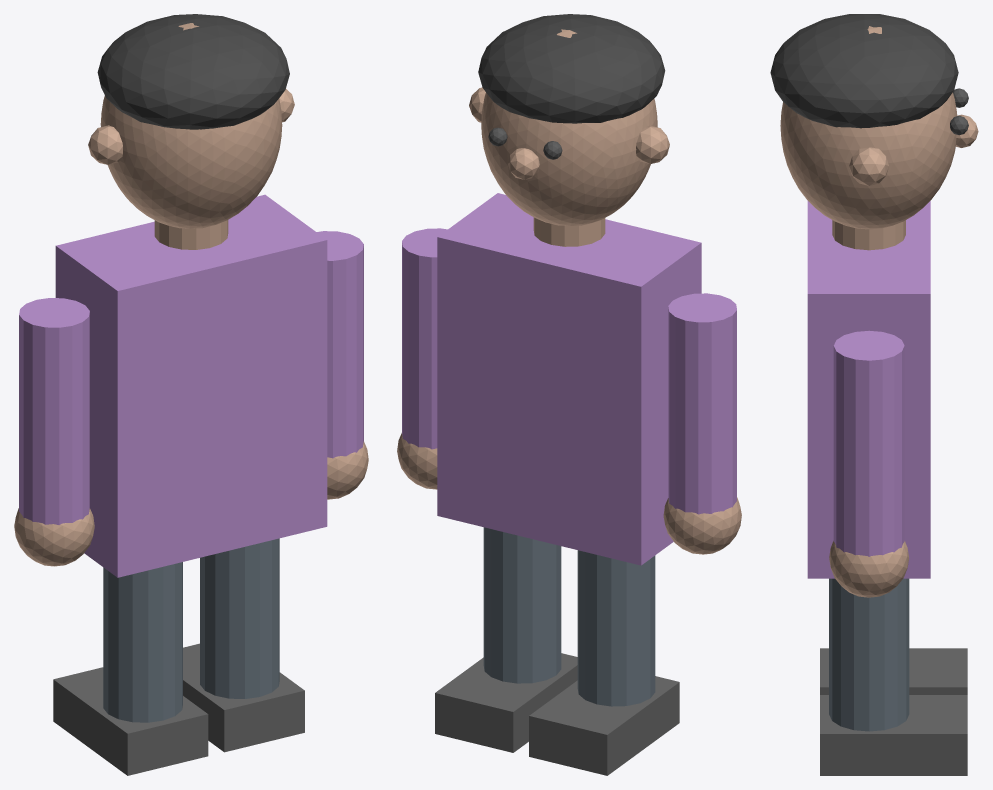
File: student_purple.glb
The picture shows the model from 3 angles, left to right: view 1: azimuth 30°, elevation 25°; view 2: azimuth 150°, elevation 25°; view 3: azimuth 270°, elevation 25°; orthographic projection. The views are drawn at different scales.
Visible parts, largest first — view 1: torso, hair, armL, head, legL, legR, shoeL, armR, shoeR, handL, handR, neck (+1 smaller); view 2: torso, hair, armL, head, legL, legR, shoeL, armR, shoeR, handL, handR, neck (+2 smaller); view 3: torso, hair, armR, head, legR, shoeR, shoeL, handR, neck, earR, nose.
Boxes of the visible parts, bbox=[...] form: torso: bbox=[55, 194, 327, 577]; hair: bbox=[97, 14, 289, 129]; armL: bbox=[19, 298, 89, 524]; head: bbox=[100, 23, 282, 228]; legL: bbox=[103, 562, 182, 722]; legR: bbox=[200, 538, 279, 698]; shoeL: bbox=[53, 667, 208, 775]; armR: bbox=[317, 231, 363, 458]; shoeR: bbox=[183, 643, 304, 752]; handL: bbox=[14, 508, 94, 566]; handR: bbox=[327, 441, 368, 499]; neck: bbox=[154, 220, 228, 249]; torso: bbox=[437, 193, 701, 565]; hair: bbox=[478, 14, 665, 123]; armL: bbox=[668, 293, 736, 514]; head: bbox=[481, 29, 657, 225]; legL: bbox=[577, 550, 655, 706]; legR: bbox=[483, 527, 561, 683]; shoeL: bbox=[529, 676, 679, 775]; armR: bbox=[402, 228, 447, 449]; shoeR: bbox=[435, 653, 577, 752]; handL: bbox=[663, 497, 741, 554]; handR: bbox=[397, 433, 437, 489]; neck: bbox=[533, 217, 605, 246]; torso: bbox=[807, 201, 930, 578]; hair: bbox=[770, 14, 958, 128]; armR: bbox=[833, 330, 904, 556]; head: bbox=[780, 26, 957, 229]; legR: bbox=[829, 578, 909, 731]; shoeR: bbox=[820, 695, 967, 775]; shoeL: bbox=[820, 648, 967, 694]; handR: bbox=[829, 541, 908, 597]; neck: bbox=[832, 220, 905, 250]; earR: bbox=[849, 147, 888, 185]; nose: bbox=[956, 114, 978, 147].
Size of the model in its own units: 1.28 by 2.52 by 0.6755.
